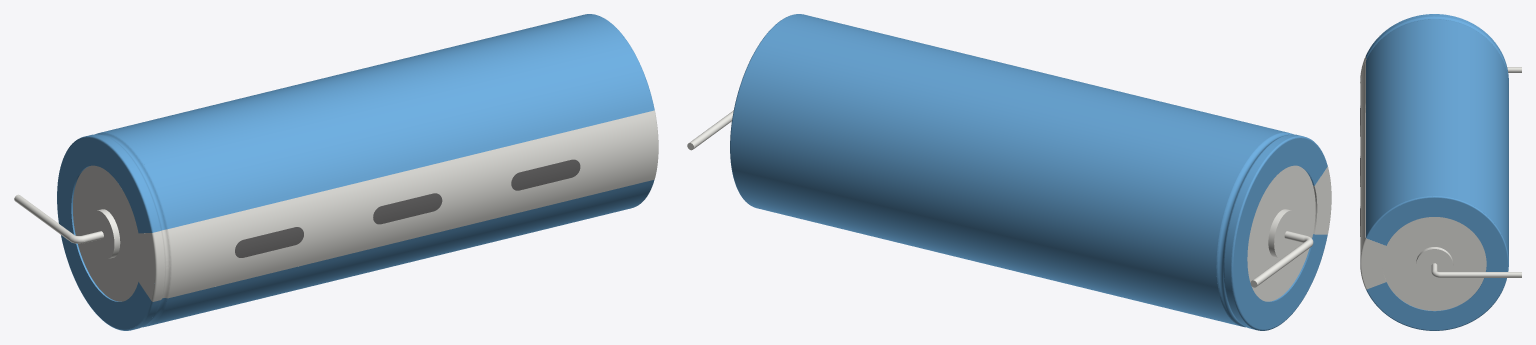
The model's file is CP_Axial_L67.0mm_D23.0mm_P75.00mm_Horizontal.glb.
3 renders of one model, left to right at view 1: azimuth 30°, elevation 25°; view 2: azimuth 150°, elevation 25°; view 3: azimuth 270°, elevation 25°, orthographic. The views are drawn at different scales.
Visible parts, largest first — view 1: Shape_IndexedFaceSet.009, Shape_IndexedFaceSet.059, Shape_IndexedFaceSet.006, Shape_IndexedFaceSet.074, Shape_IndexedFaceSet.028, Shape_IndexedFaceSet.038, Shape_IndexedFaceSet.018, Shape_IndexedFaceSet, Shape_IndexedFaceSet.051, Shape_IndexedFaceSet.072, Shape_IndexedFaceSet.005, Shape_IndexedFaceSet.003 (+2 smaller); view 2: Shape_IndexedFaceSet.009, Shape_IndexedFaceSet.006, Shape_IndexedFaceSet.074, Shape_IndexedFaceSet, Shape_IndexedFaceSet.005, Shape_IndexedFaceSet.051, Shape_IndexedFaceSet.003, Shape_IndexedFaceSet.072, Shape_IndexedFaceSet.061, Shape_IndexedFaceSet.007; view 3: Shape_IndexedFaceSet.009, Shape_IndexedFaceSet.012, Shape_IndexedFaceSet.069, Shape_IndexedFaceSet.059, Shape_IndexedFaceSet.056, Shape_IndexedFaceSet.067, Shape_IndexedFaceSet.011, Shape_IndexedFaceSet.065, Shape_IndexedFaceSet, Shape_IndexedFaceSet.005, Shape_IndexedFaceSet.002.
Part boxes in pixels (box(x1,y1,x2,y2)): Shape_IndexedFaceSet.009: box(101, 14, 653, 326); Shape_IndexedFaceSet.059: box(168, 110, 657, 298); Shape_IndexedFaceSet.006: box(57, 138, 151, 329); Shape_IndexedFaceSet.074: box(73, 165, 140, 301); Shape_IndexedFaceSet.028: box(373, 193, 442, 224); Shape_IndexedFaceSet.038: box(511, 159, 580, 190); Shape_IndexedFaceSet.018: box(235, 227, 303, 257); Shape_IndexedFaceSet: box(86, 134, 160, 329); Shape_IndexedFaceSet.051: box(138, 233, 154, 300); Shape_IndexedFaceSet.072: box(89, 210, 114, 259); Shape_IndexedFaceSet.005: box(97, 133, 166, 326); Shape_IndexedFaceSet.003: box(57, 136, 153, 330); Shape_IndexedFaceSet.009: box(731, 14, 1287, 326); Shape_IndexedFaceSet.006: box(1233, 138, 1327, 329); Shape_IndexedFaceSet.074: box(1247, 165, 1315, 301); Shape_IndexedFaceSet: box(1224, 134, 1302, 329); Shape_IndexedFaceSet.005: box(1218, 133, 1291, 326); Shape_IndexedFaceSet.051: box(1314, 167, 1331, 234); Shape_IndexedFaceSet.003: box(1231, 136, 1327, 330); Shape_IndexedFaceSet.072: box(1274, 210, 1298, 258); Shape_IndexedFaceSet.061: box(1252, 240, 1311, 286); Shape_IndexedFaceSet.007: box(1216, 132, 1292, 327); Shape_IndexedFaceSet.009: box(1366, 19, 1508, 259); Shape_IndexedFaceSet.012: box(1367, 197, 1507, 330); Shape_IndexedFaceSet.069: box(1382, 217, 1486, 310); Shape_IndexedFaceSet.059: box(1360, 62, 1365, 256); Shape_IndexedFaceSet.056: box(1361, 239, 1386, 289); Shape_IndexedFaceSet.067: box(1416, 249, 1452, 282); Shape_IndexedFaceSet.011: box(1366, 196, 1508, 330); Shape_IndexedFaceSet.065: box(1440, 272, 1521, 277); Shape_IndexedFaceSet: box(1366, 14, 1508, 79); Shape_IndexedFaceSet.005: box(1366, 17, 1506, 68); Shape_IndexedFaceSet.002: box(1366, 16, 1508, 82).
Size of the model in its own units: 29.88 by 9.05 by 9.85.
